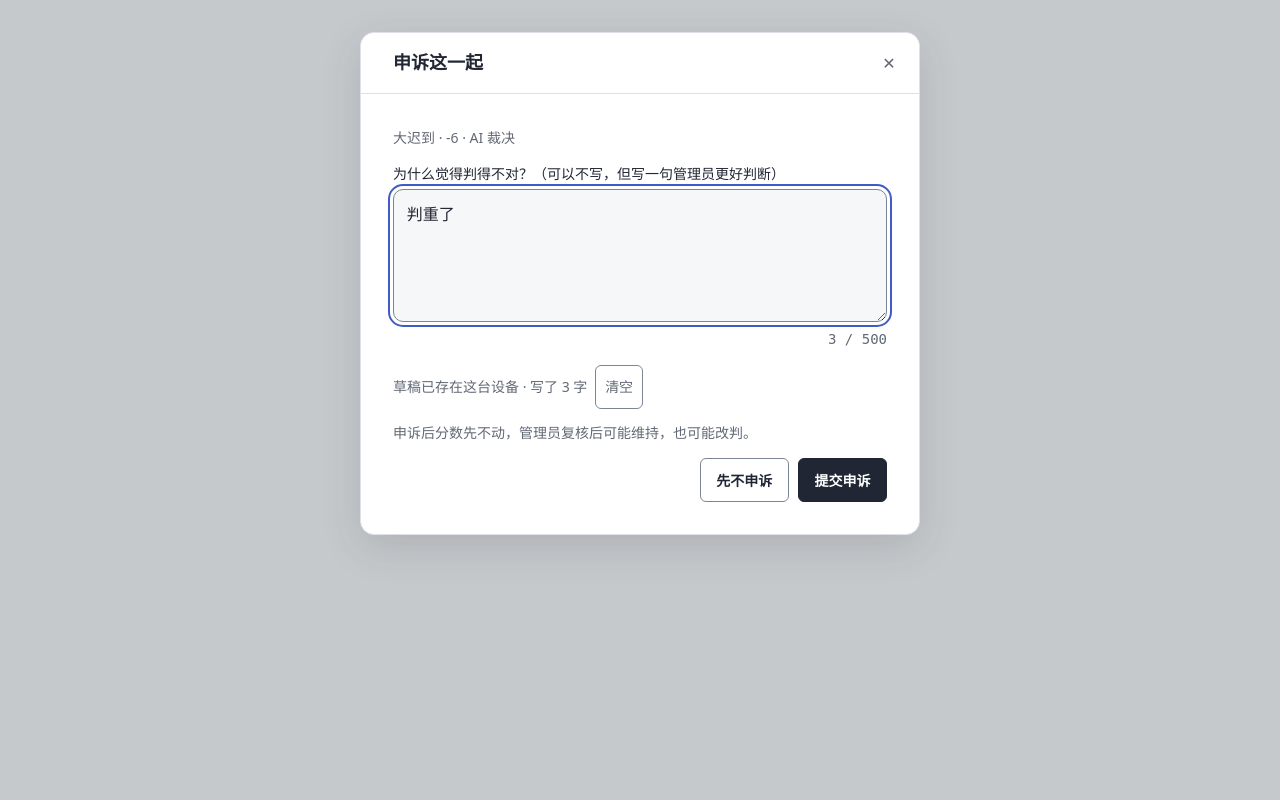
Test: AppealSheet › shows the server’s refusal and stays open
Click the button "提交申诉" at point(843, 480), box [798, 458, 887, 502]
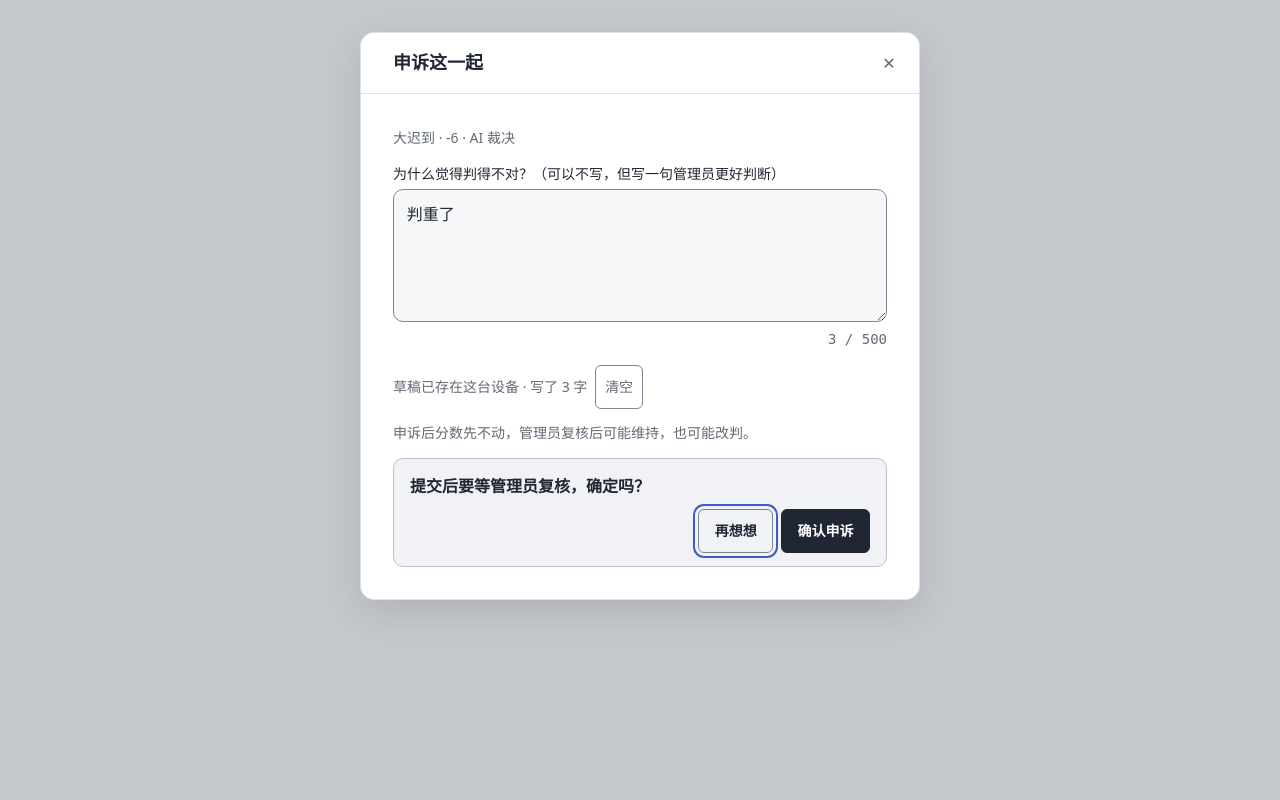
Click the button "确认申诉" at point(826, 531), box [781, 509, 870, 553]
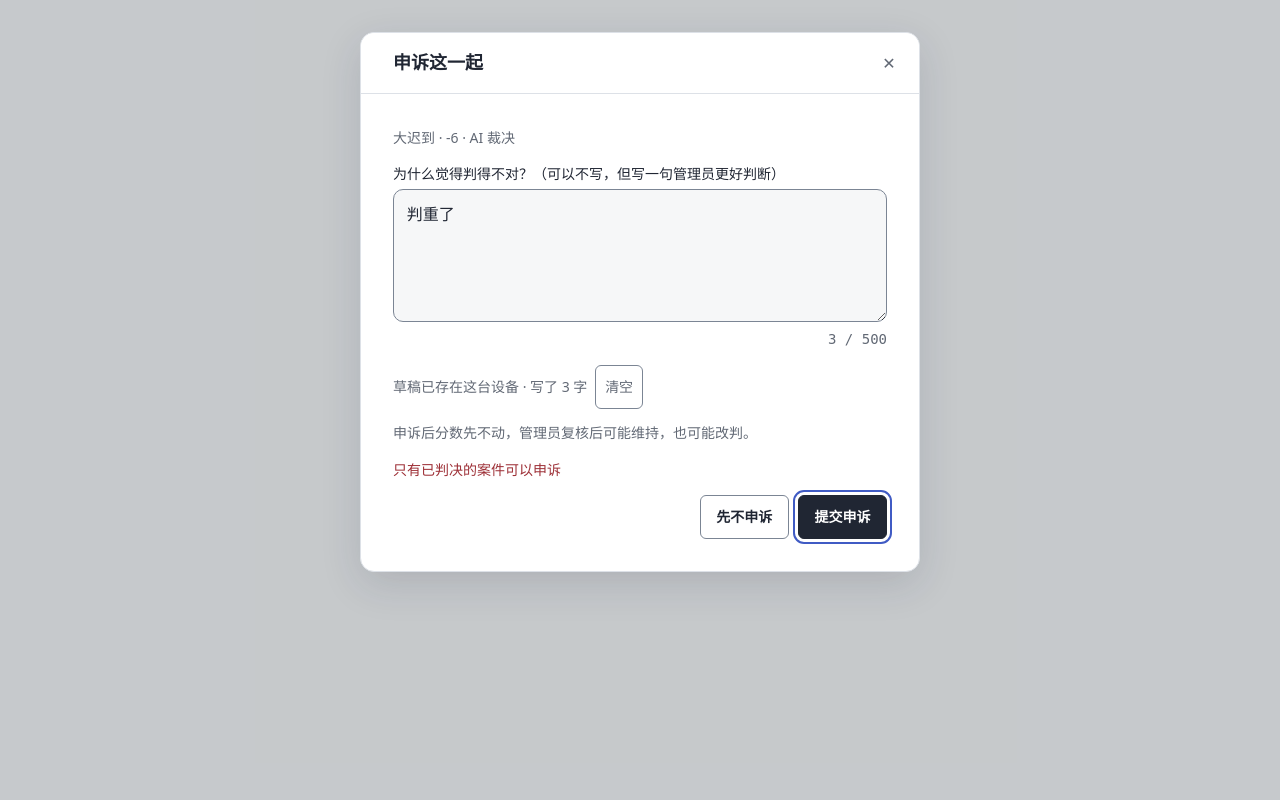
Expected: the message reads "只有已判决的案件可以申诉", [393, 460, 561, 479]
